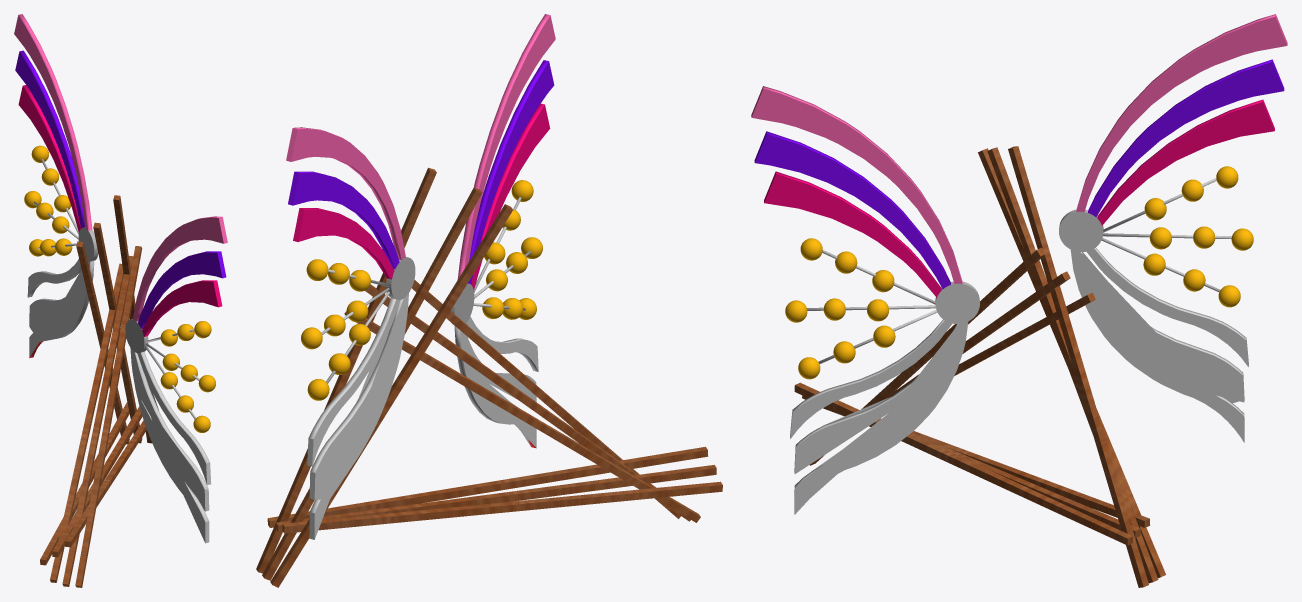
The model's file is ButterflySculpture.fbx.
3 renders of one model, left to right at view 1: azimuth 30°, elevation 25°; view 2: azimuth 150°, elevation 25°; view 3: azimuth 270°, elevation 25°, orthographic. The views are drawn at different scales.
Parts seen in each view (by area): view 1: Component#1.001; view 2: Component#1.001; view 3: Component#1.001.
Part boxes in pixels (x1,y1,x2,y2): Component#1.001: [14, 14, 227, 587]; Component#1.001: [256, 14, 722, 587]; Component#1.001: [751, 14, 1287, 587].
Bounding box in the file's own units: 116 × 188 × 174.
Materials: 8 (3 with a texture image).
